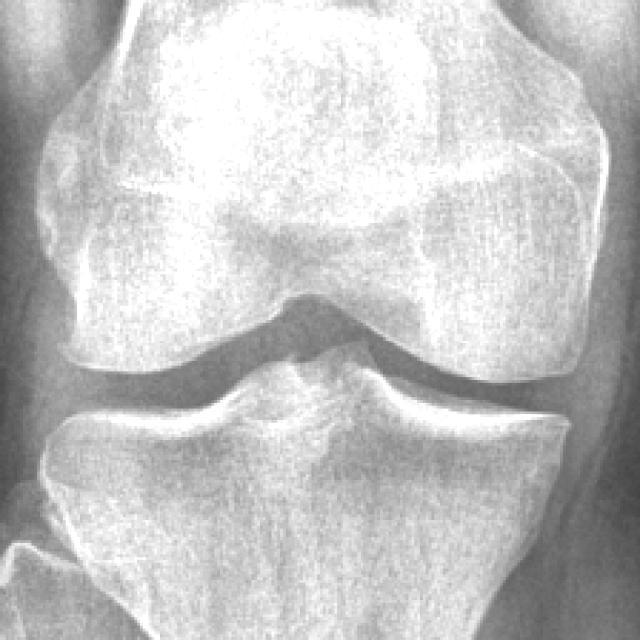femur: (33, 1, 612, 384)
tibia: (43, 351, 575, 637)
